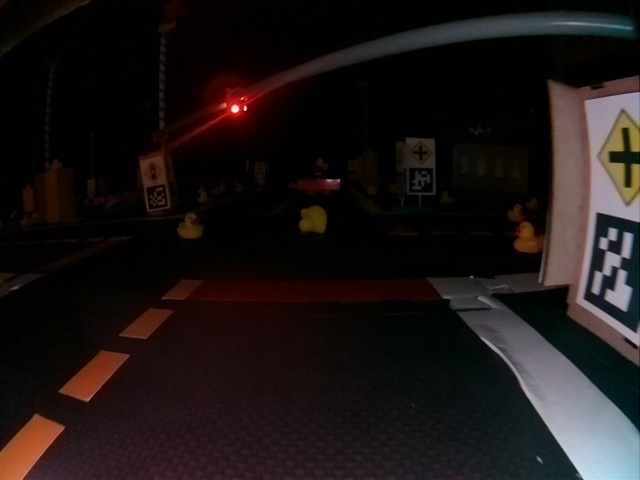Duckie: (514, 223, 544, 253), (299, 205, 327, 232), (178, 214, 202, 239), (509, 204, 523, 218), (527, 197, 538, 210)
Duckiebot: (290, 172, 340, 194)
Intersection sign: (594, 105, 636, 205), (409, 139, 434, 166)
QR code: (582, 212, 636, 332), (407, 168, 435, 194), (146, 185, 168, 210)
Signal sign: (141, 160, 165, 183)
Traffic light: (225, 87, 245, 120)
